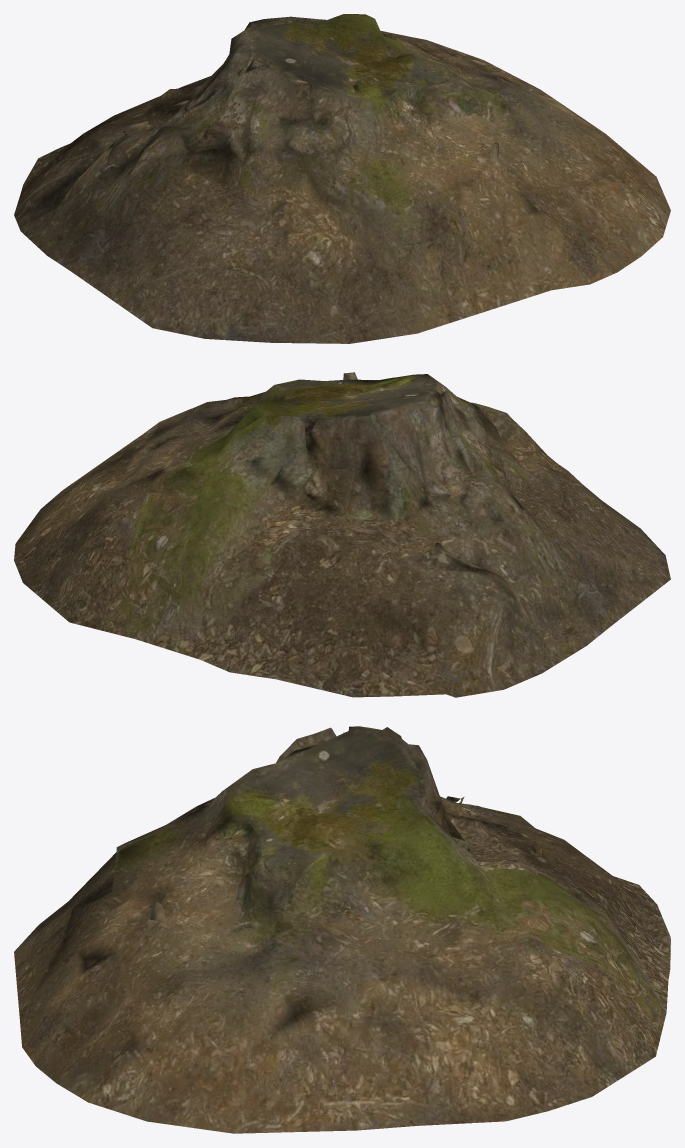
Rendered from tree_stump_02.glb.
3 renders of one model, top to bottom at view 1: azimuth 30°, elevation 25°; view 2: azimuth 150°, elevation 25°; view 3: azimuth 270°, elevation 25°, orthographic. The views are drawn at different scales.
Visible parts, largest first — view 1: tree_stump_02; view 2: tree_stump_02; view 3: tree_stump_02.
Part boxes in pixels (bbox=[...]): tree_stump_02: bbox=[14, 14, 670, 343]; tree_stump_02: bbox=[14, 372, 670, 697]; tree_stump_02: bbox=[14, 726, 670, 1133].
Bounding box in the file's own units: 1.52 × 0.5184 × 1.39.
1 material, 1 textured.
